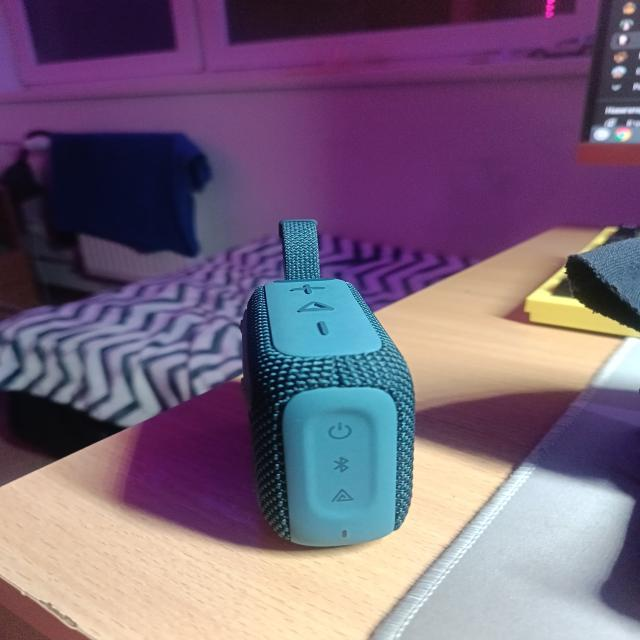column JBL: (242, 220, 415, 547)
